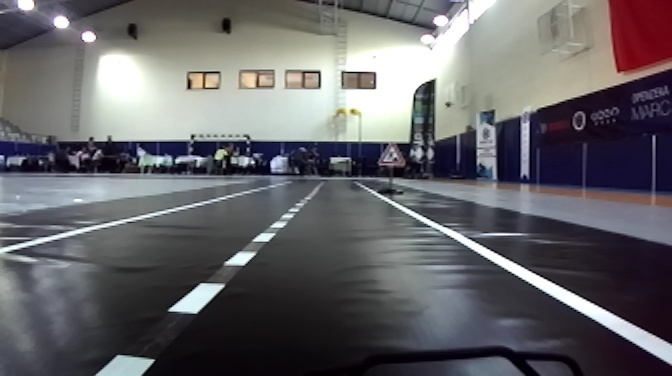yol_yapimi: (374, 142, 408, 168)
